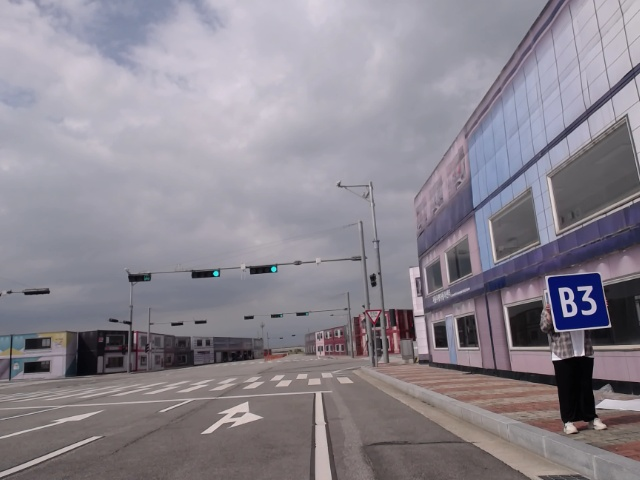delivery_b3: (543, 270, 613, 334)
straight_green_4: (246, 262, 279, 276), (189, 267, 221, 279), (270, 312, 285, 320), (295, 311, 312, 318)
